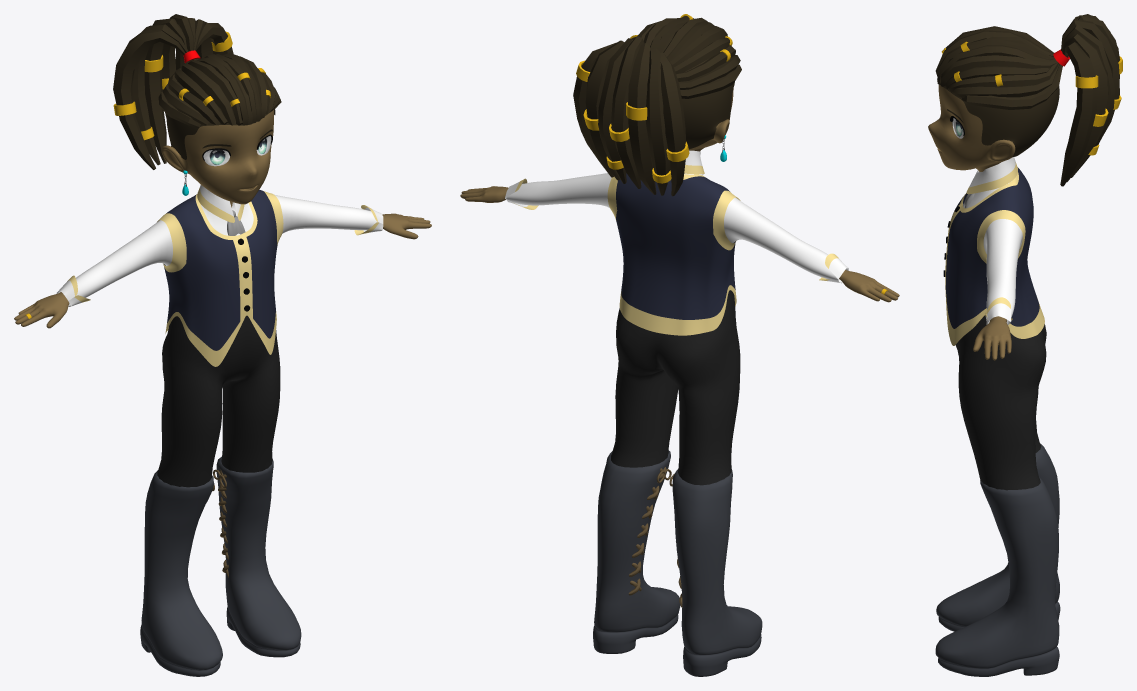
The model's file is Ruhe.fbx.
3 renders of one model, left to right at view 1: azimuth 30°, elevation 25°; view 2: azimuth 150°, elevation 25°; view 3: azimuth 270°, elevation 25°, orthographic. The views are drawn at different scales.
Parts seen in each view (by area): view 1: Botas, Pantalón, Chaleco, Camisa, BezierCurve.005, Cuerpo, BezierCurve, Raiz pelo; view 2: Botas, Pantalón, Chaleco, BezierCurve.005, Camisa, BezierCurve, Raiz pelo, Cuerpo, Cordones; view 3: Botas, Pantalón, Chaleco, BezierCurve, BezierCurve.005, Cuerpo, Camisa, Raiz pelo.
Boxes of the visible parts, x1,y1,x2,y2 form: Botas: [140, 456, 301, 676]; Pantalón: [157, 315, 280, 487]; Chaleco: [157, 190, 283, 366]; Camisa: [56, 185, 383, 306]; BezierCurve.005: [113, 14, 233, 169]; Cuerpo: [14, 110, 431, 328]; BezierCurve: [158, 53, 281, 127]; Raiz pelo: [166, 81, 275, 159]; Botas: [593, 450, 762, 676]; Pantalón: [611, 290, 740, 485]; Chaleco: [607, 173, 740, 335]; BezierCurve.005: [573, 36, 685, 196]; Camisa: [505, 150, 848, 283]; BezierCurve: [631, 16, 741, 98]; Raiz pelo: [682, 58, 734, 149]; Cuerpo: [460, 88, 899, 302]; Cordones: [628, 467, 682, 607]; Botas: [935, 443, 1060, 676]; Pantalón: [955, 315, 1046, 490]; Chaleco: [945, 167, 1044, 345]; BezierCurve: [935, 26, 1062, 109]; BezierCurve.005: [1060, 14, 1120, 186]; Cuerpo: [928, 84, 1015, 360]; Camisa: [963, 157, 1022, 324]; Raiz pelo: [943, 86, 1059, 156].
Bounding box in the file's own units: 719 × 1000 × 282.
Materials: 17 (1 with a texture image).
